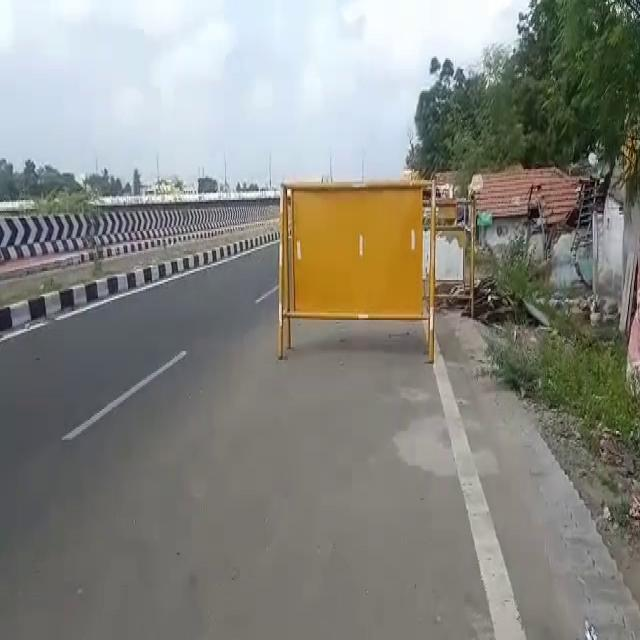fallen_object: (265, 170, 467, 366)
